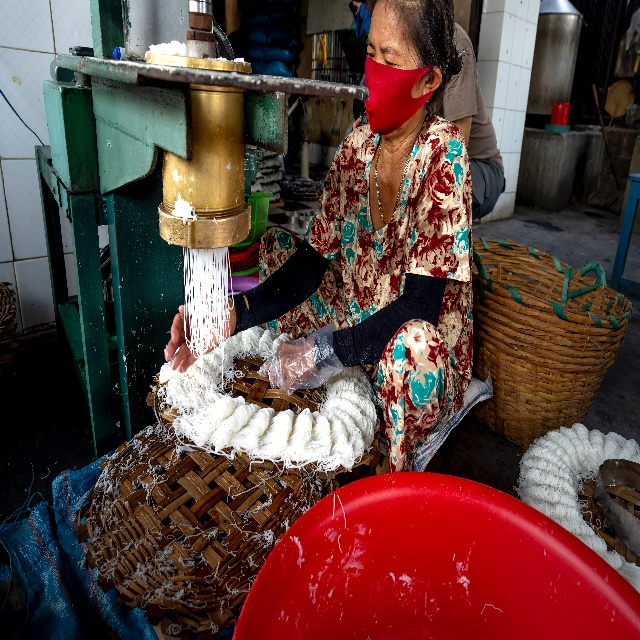Guantes: (257, 322, 346, 396)
Mascara: (364, 55, 434, 137)
Sin_guantes: (163, 298, 232, 374), (264, 339, 314, 394)
